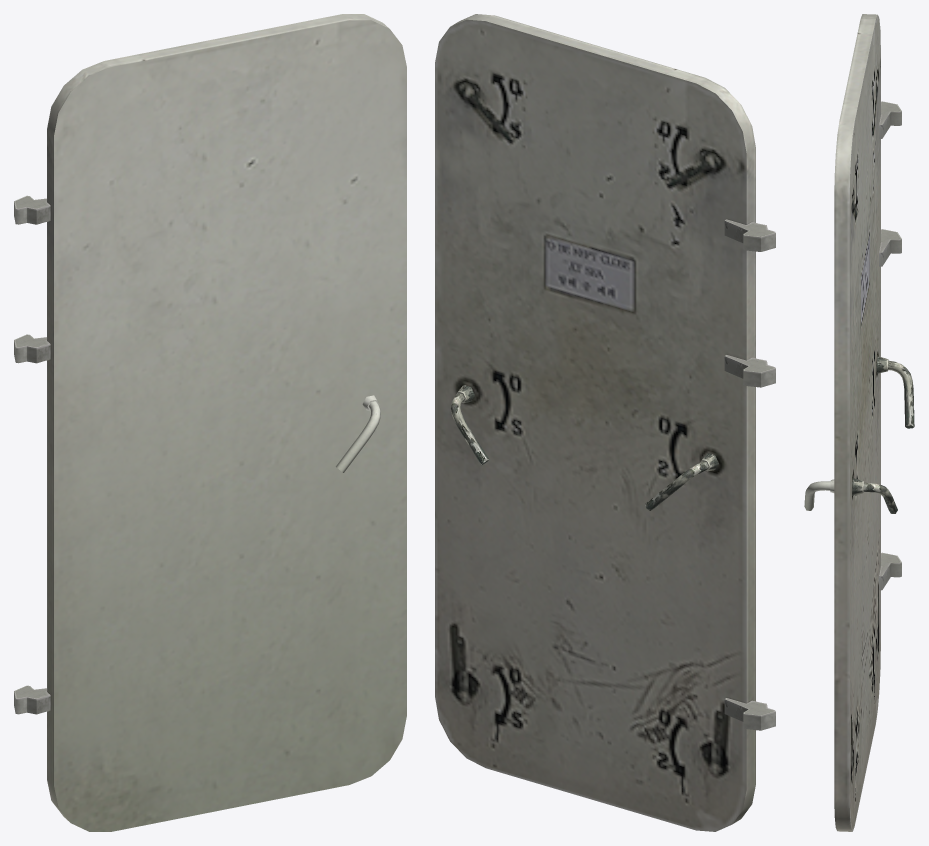
File: ETS_All-001_Door_CO2_171212.FBX
The picture shows the model from 3 angles, left to right: view 1: azimuth 30°, elevation 25°; view 2: azimuth 150°, elevation 25°; view 3: azimuth 270°, elevation 25°; orthographic projection. The views are drawn at different scales.
Visible parts, largest first — view 1: Door_Co2; view 2: Door_Co2; view 3: Door_Co2.
Part boxes in pixels (x1,y1,x2,y2): Door_Co2: [14, 14, 406, 831]; Door_Co2: [435, 14, 775, 831]; Door_Co2: [804, 14, 914, 831].
Bounding box in the file's own units: 0.8847 × 1.76 × 0.2499.
